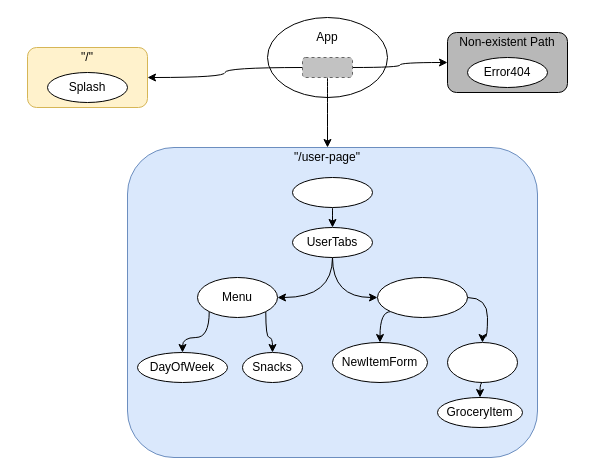
The diagram is 594 pixels wide and 475 high, and some of its shapes have lost their labels. The shapes that lost their labels are listed below. From the top down, each one's box as (x1, y1, x2, y2) in pixels, then its label:
(302, 56, 352, 78): Routes
(292, 176, 372, 208): UserPage
(376, 276, 468, 318): ShoppingList
(446, 342, 518, 382): Category
